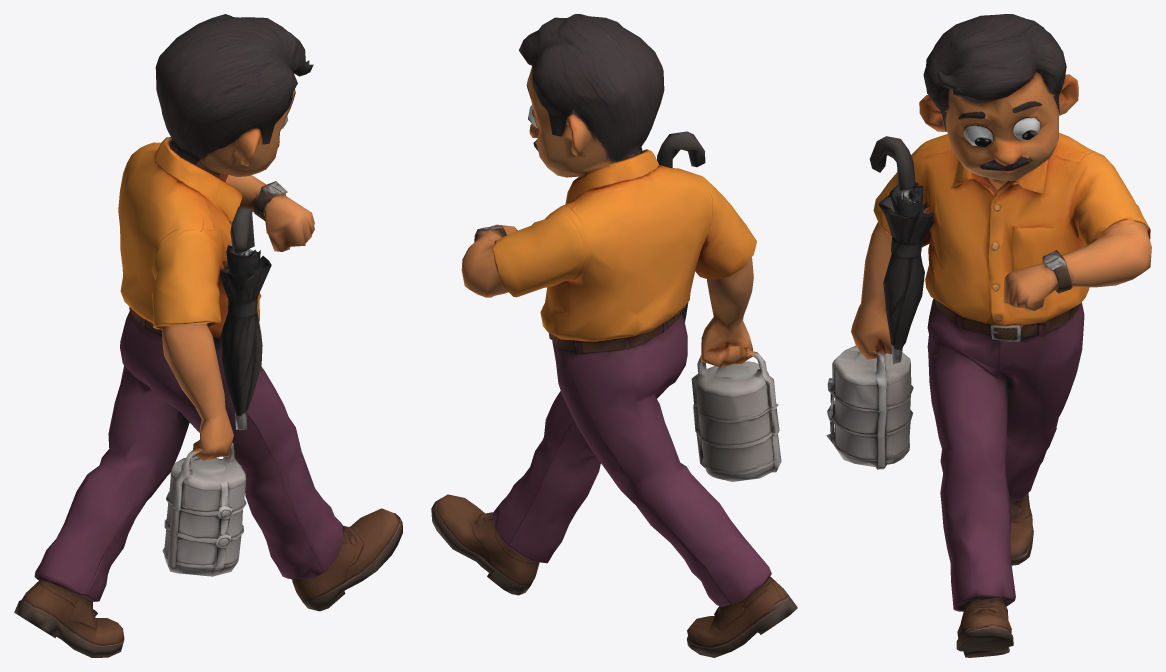
The model's file is pedestrian-office-goer.glb.
3 renders of one model, left to right at view 1: azimuth 30°, elevation 25°; view 2: azimuth 150°, elevation 25°; view 3: azimuth 270°, elevation 25°, orthographic. The views are drawn at different scales.
Visible parts, largest first — view 1: tripo_node_0e2514e3-a924-4827-8cc5-db9d8ac40031; view 2: tripo_node_0e2514e3-a924-4827-8cc5-db9d8ac40031; view 3: tripo_node_0e2514e3-a924-4827-8cc5-db9d8ac40031.
Part boxes in pixels (bbox=[...]): tripo_node_0e2514e3-a924-4827-8cc5-db9d8ac40031: bbox=[14, 14, 402, 657]; tripo_node_0e2514e3-a924-4827-8cc5-db9d8ac40031: bbox=[431, 14, 797, 657]; tripo_node_0e2514e3-a924-4827-8cc5-db9d8ac40031: bbox=[826, 14, 1151, 657].
Size of the model in its own units: 0.6536 by 1 by 0.4911.
1 material, 1 textured.
